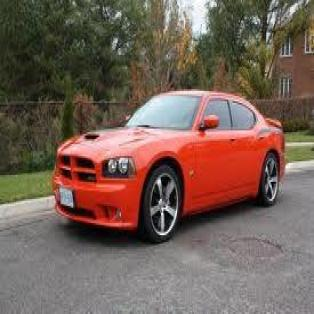Auto: (49, 86, 288, 245)
